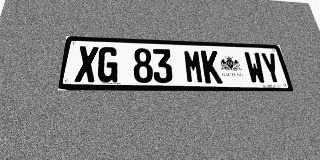3: (153, 49, 173, 83)
8: (133, 48, 153, 83)
G: (97, 47, 119, 83)
K: (201, 50, 223, 84)
M: (183, 50, 204, 83)
W: (243, 52, 267, 84)
X: (74, 46, 99, 82)
Y: (259, 52, 283, 84)
